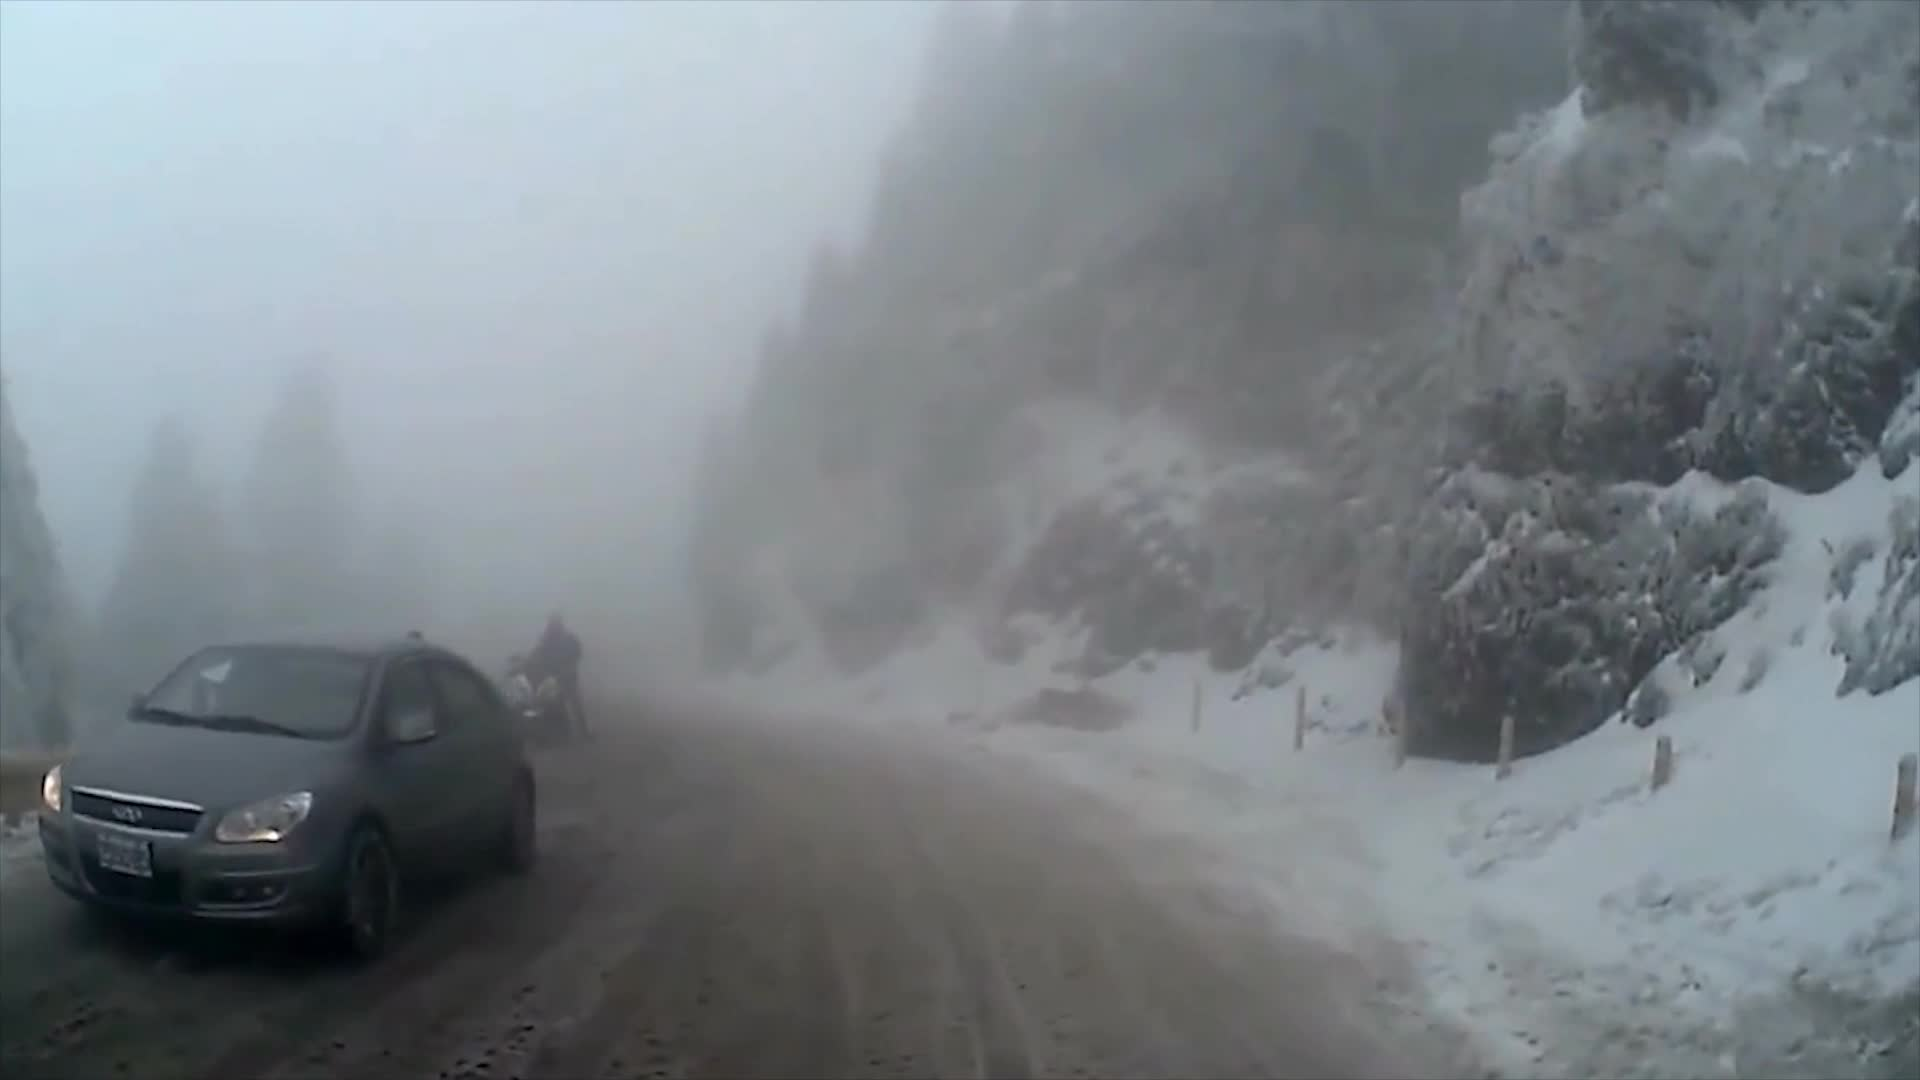vehicle: (36, 632, 537, 963)
